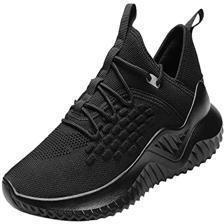Ladder: (81, 23, 181, 197), (8, 7, 79, 213)
